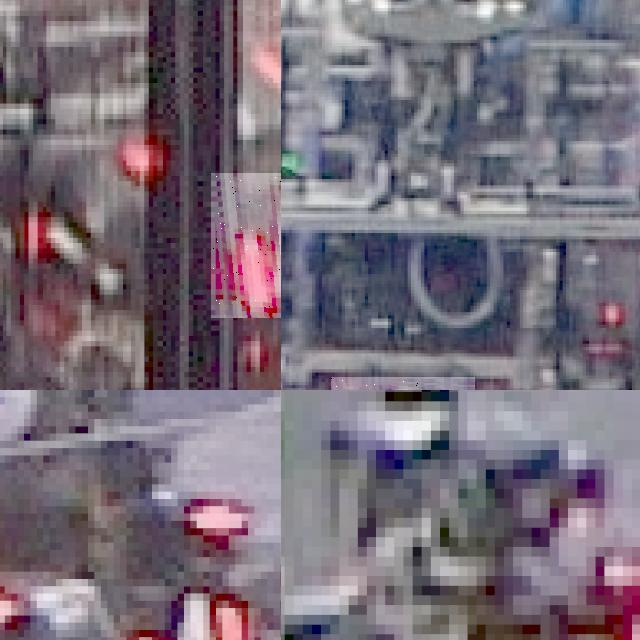R4: (210, 173, 281, 317), (126, 586, 241, 640)
